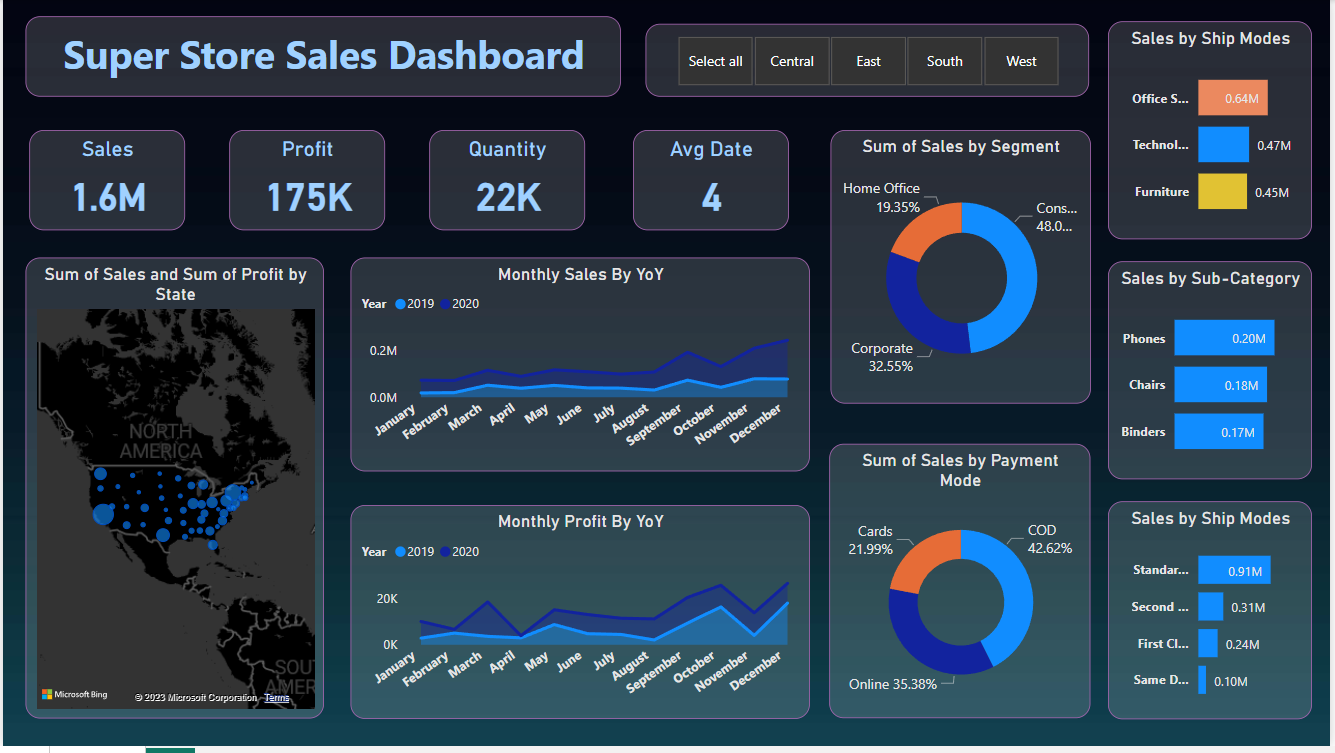

The page's visual inventory and layout, read from the dashboard file:
{"tool":"powerbi","page":{"name":"Page 1","canvas":[1280,720],"ordinal":0},"visuals":[{"type":"clusteredBarChart","title":"Sales by Sub-Category","fields":{"Y":["Sum(SuperStore_Sales_Dataset.Sales)"],"Category":["SuperStore_Sales_Dataset.Sub-Category"]},"box":[1066.7,251.7,196.7,210],"z":0},{"type":"clusteredBarChart","title":"Sales by Ship Modes","fields":{"Y":["Sum(SuperStore_Sales_Dataset.Sales)"],"Category":["SuperStore_Sales_Dataset.Ship Mode"]},"box":[1066.7,483.3,196.7,210],"z":1000},{"type":"stackedAreaChart","title":"Monthly Sales By YoY","fields":{"Category":["SuperStore_Sales_Dataset.Order Date.Variation.Date Hierarchy.Month","SuperStore_Sales_Dataset.Order Date.Variation.Date Hierarchy.Day"],"Y":["Sum(SuperStore_Sales_Dataset.Sales)"],"Series":["SuperStore_Sales_Dataset.Order Date.Variation.Date Hierarchy.Year"]},"box":[335,248.3,443.3,206.7],"z":2000},{"type":"stackedAreaChart","title":"Monthly Profit By YoY","fields":{"Category":["SuperStore_Sales_Dataset.Order Date.Variation.Date Hierarchy.Month","SuperStore_Sales_Dataset.Order Date.Variation.Date Hierarchy.Day"],"Series":["SuperStore_Sales_Dataset.Order Date.Variation.Date Hierarchy.Year"],"Y":["Sum(SuperStore_Sales_Dataset.Profit)"]},"box":[335,486.7,443.3,206.7],"z":3000},{"type":"donutChart","fields":{"Category":["SuperStore_Sales_Dataset.Segment"],"Y":["Sum(SuperStore_Sales_Dataset.Sales)"]},"box":[798.4,125.4,250.9,264.1],"z":4000},{"type":"clusteredBarChart","title":"Sales by Ship Modes","fields":{"Y":["Sum(SuperStore_Sales_Dataset.Sales)"],"Category":["SuperStore_Sales_Dataset.Category"]},"box":[1066.7,20,196.7,210],"z":5000},{"type":"map","fields":{"Category":["SuperStore_Sales_Dataset.State"],"Size":["Sum(SuperStore_Sales_Dataset.Sales)"]},"box":[21.7,248.3,288.3,445],"z":6000},{"type":"donutChart","fields":{"Y":["Sum(SuperStore_Sales_Dataset.Sales)"],"Category":["SuperStore_Sales_Dataset.Payment Mode"]},"box":[796.7,428.3,251.7,265],"z":7000},{"type":"slicer","fields":{"Values":["SuperStore_Sales_Dataset.Region"]},"box":[620,23.3,428.3,70],"z":8000},{"type":"textbox","box":[22.2,15.6,574.4,77.8],"z":9000},{"type":"card","title":"Sales","fields":{"Values":["Sum(SuperStore_Sales_Dataset.Sales)"]},"box":[25,125,150,96.7],"z":10000},{"type":"card","title":"Quantity","fields":{"Values":["Sum(SuperStore_Sales_Dataset.Quantity)"]},"box":[411.7,125,150,96.7],"z":11000},{"type":"card","title":"Profit","fields":{"Values":["Sum(SuperStore_Sales_Dataset.Profit)"]},"box":[218.3,125,150,96.7],"z":12000},{"type":"card","title":"Avg Date","fields":{"Values":["Avg(SuperStore_Sales_Dataset.AvgDelivery)"]},"box":[608.3,125,150,96.7],"z":13000}]}

Visuals, with their boxes in screenshot pixels (x1, y1, x2, y2), scaled from the page's 1280x720 canvas onto the 1335x753 screenshot:
"Sales by Sub-Category" clusteredBarChart: <region>1113, 263, 1318, 483</region>
"Sales by Ship Modes" clusteredBarChart: <region>1113, 505, 1318, 725</region>
"Monthly Sales By YoY" stackedAreaChart: <region>349, 260, 812, 476</region>
"Monthly Profit By YoY" stackedAreaChart: <region>349, 509, 812, 725</region>
donutChart - SuperStore_Sales_Dataset.Segment x Sum(SuperStore_Sales_Dataset.Sales): <region>833, 131, 1094, 407</region>
"Sales by Ship Modes" clusteredBarChart: <region>1113, 21, 1318, 241</region>
map - SuperStore_Sales_Dataset.State x Sum(SuperStore_Sales_Dataset.Sales): <region>23, 260, 323, 725</region>
donutChart - Sum(SuperStore_Sales_Dataset.Sales) x SuperStore_Sales_Dataset.Payment Mode: <region>831, 448, 1093, 725</region>
slicer - SuperStore_Sales_Dataset.Region: <region>647, 24, 1093, 98</region>
textbox: <region>23, 16, 622, 98</region>
"Sales" card: <region>26, 131, 183, 232</region>
"Quantity" card: <region>429, 131, 586, 232</region>
"Profit" card: <region>228, 131, 384, 232</region>
"Avg Date" card: <region>634, 131, 791, 232</region>
